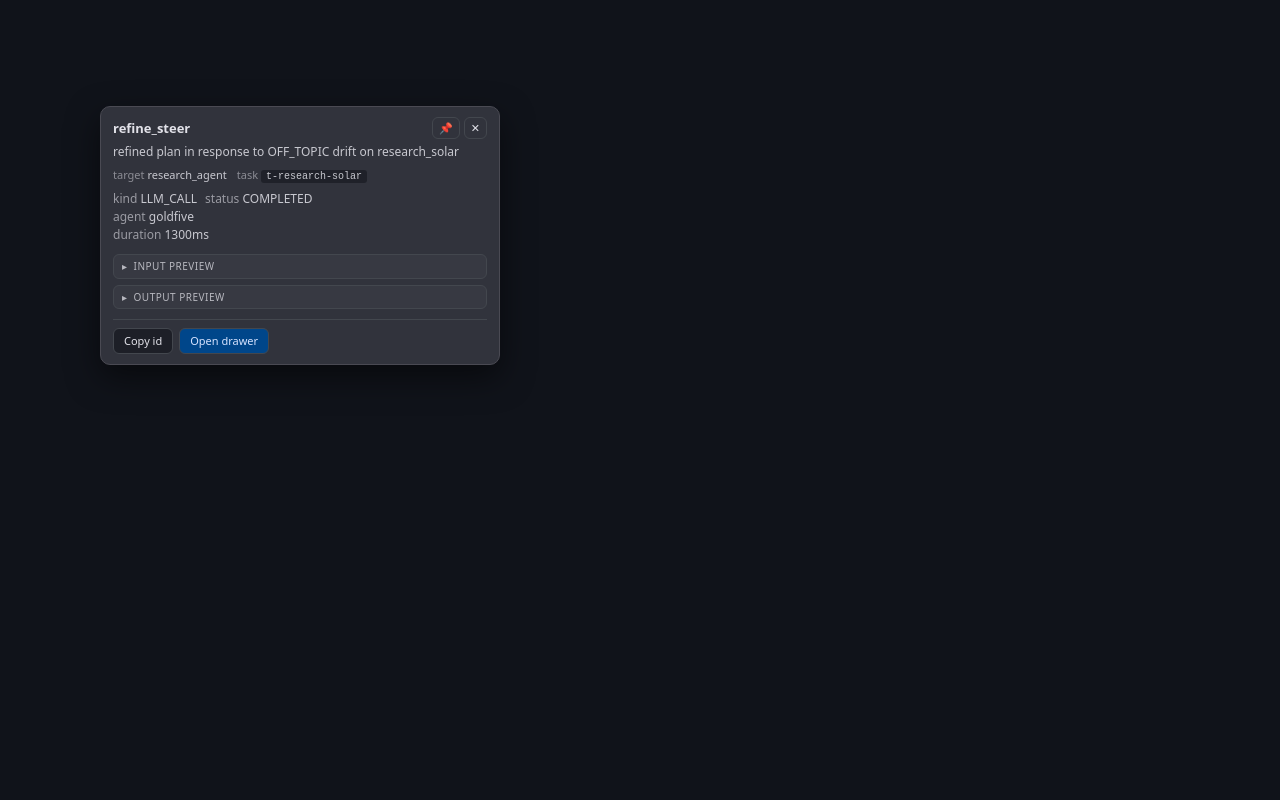
Test: <SpanPopover /> — goldfive spans › renders collapsed Input and Output preview disclosures and expands on click
Click the button with test id "span-popover-goldfive-input-toggle".
click(174, 266)  # box [114, 255, 502, 278]
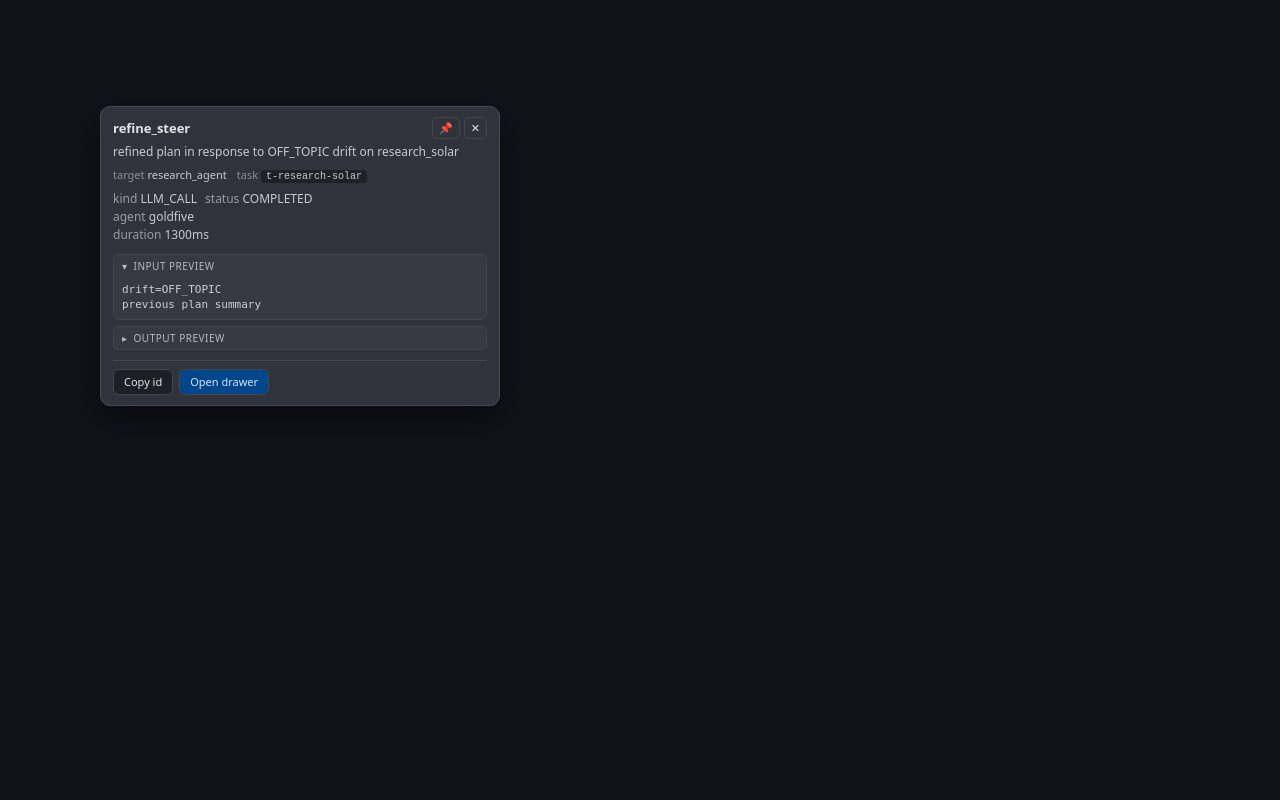
Expected: the text with test id "span-popover-goldfive-input-body" shows "drift=OFF_TOPIC", [122, 283, 261, 311]
Click the button with test id "span-popover-goldfive-output-toggle".
click(179, 338)  # box [114, 327, 502, 349]
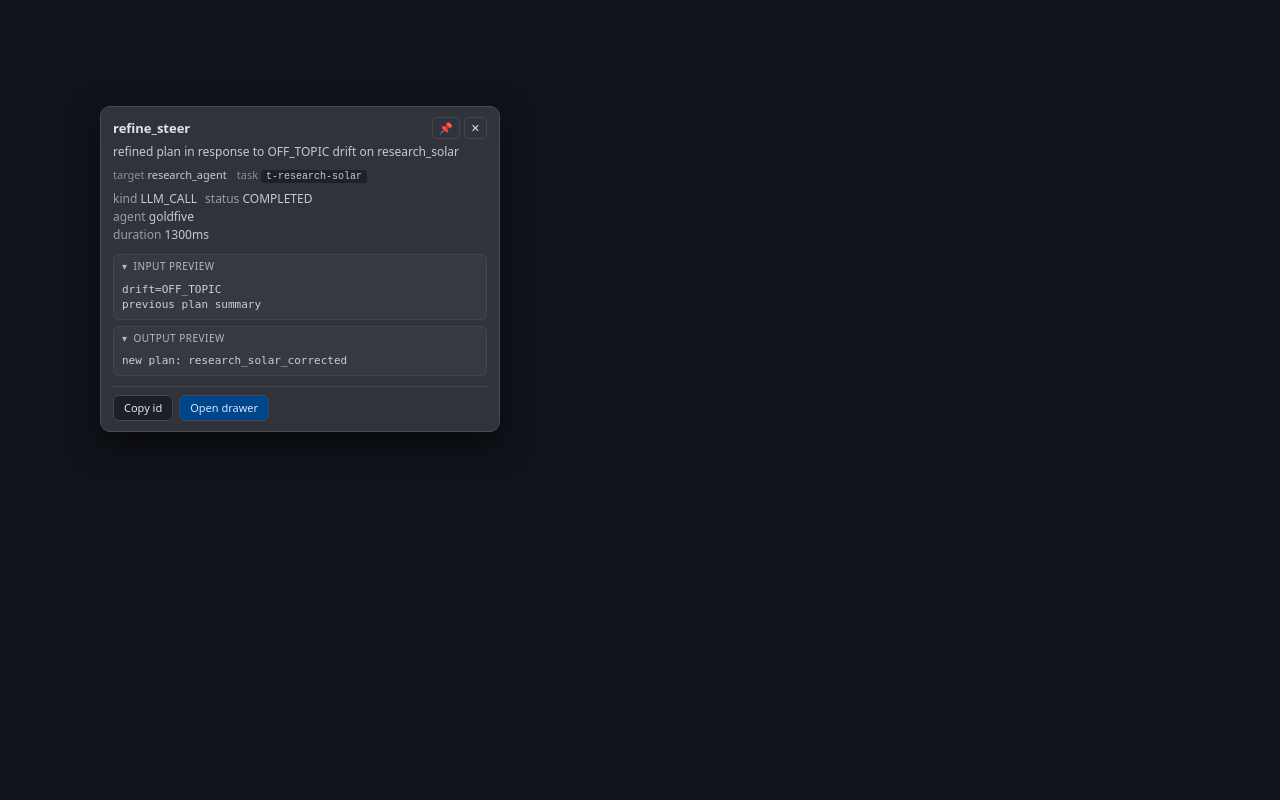
Expected: the text with test id "span-popover-goldfive-output-body" shows "research_solar_corrected", [122, 354, 347, 367]
